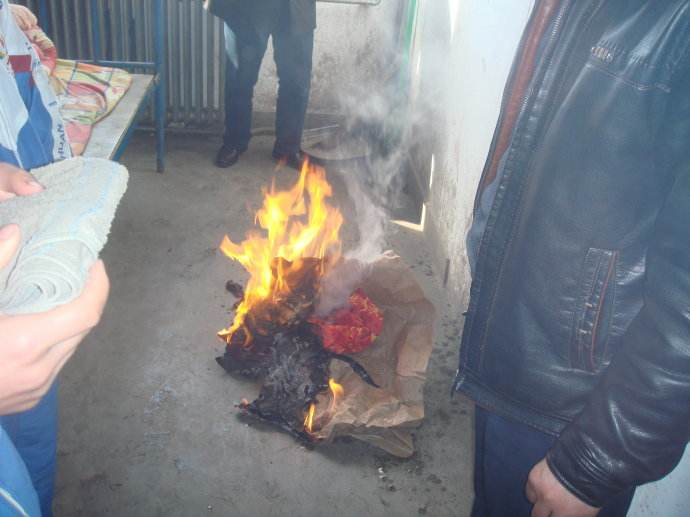fire: (227, 167, 338, 337), (302, 378, 347, 432)
